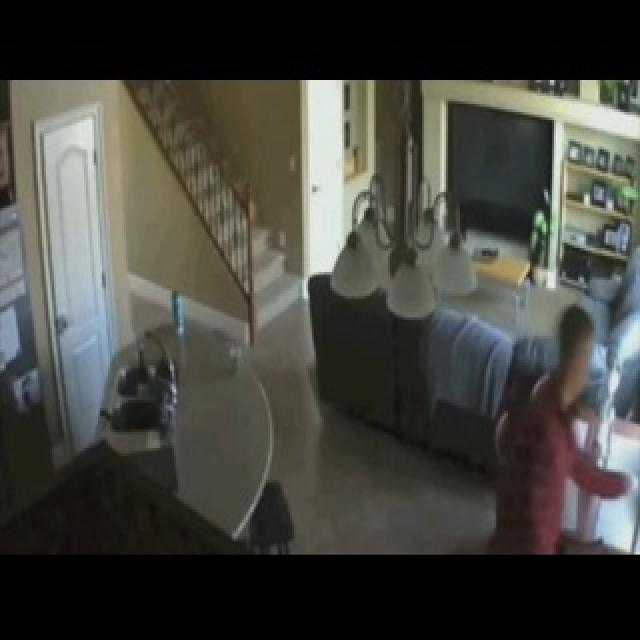thief: (537, 260, 612, 445)
